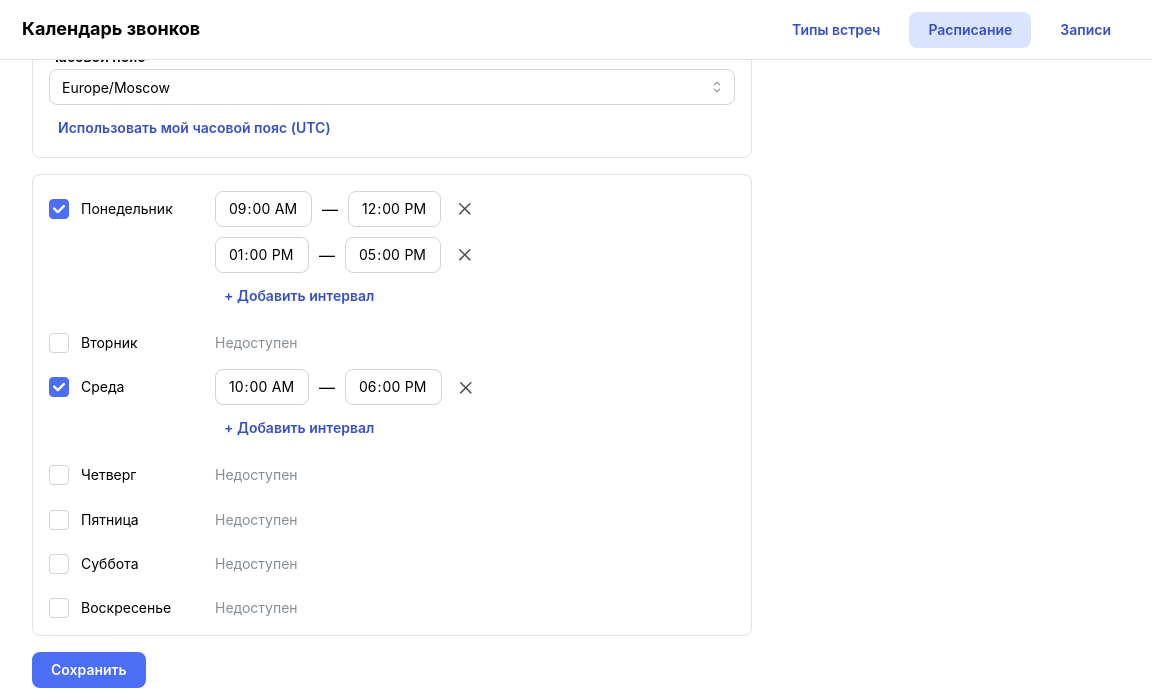
it: SchedulePage › saves changed schedule
(page scrolled)
Click the checkbox labelled "Суббота". click: (59, 564)
box: [49,554,69,574]
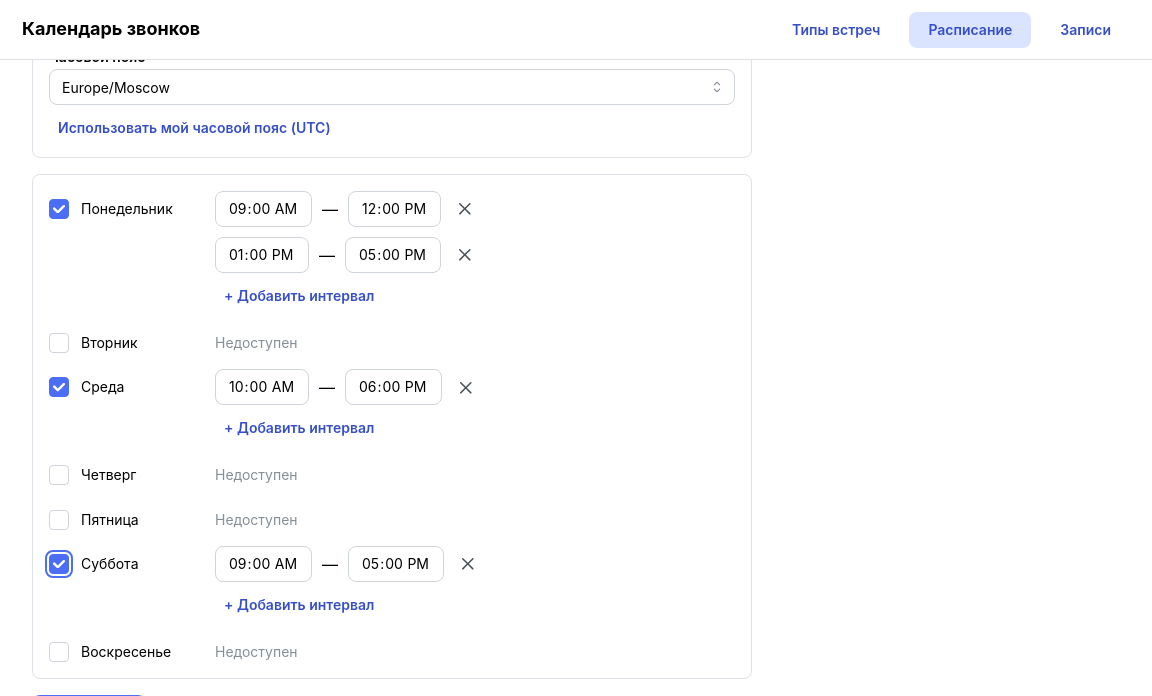
Click the button named "Понедельник: удалить интервал 2". click: (465, 255)
box: [451,241,479,269]
(page scrolled)
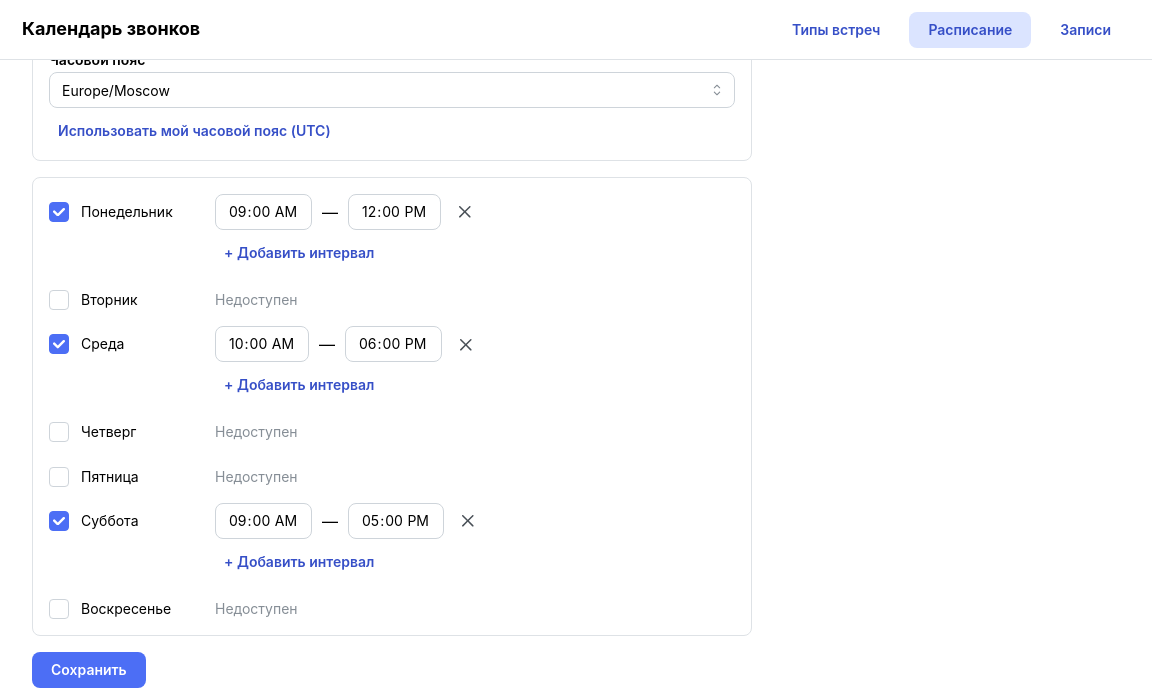
Replace the text in the time field named "Среда: конец интервала 1" with "16:30". click: (394, 344)
box: [345,326,442,362]
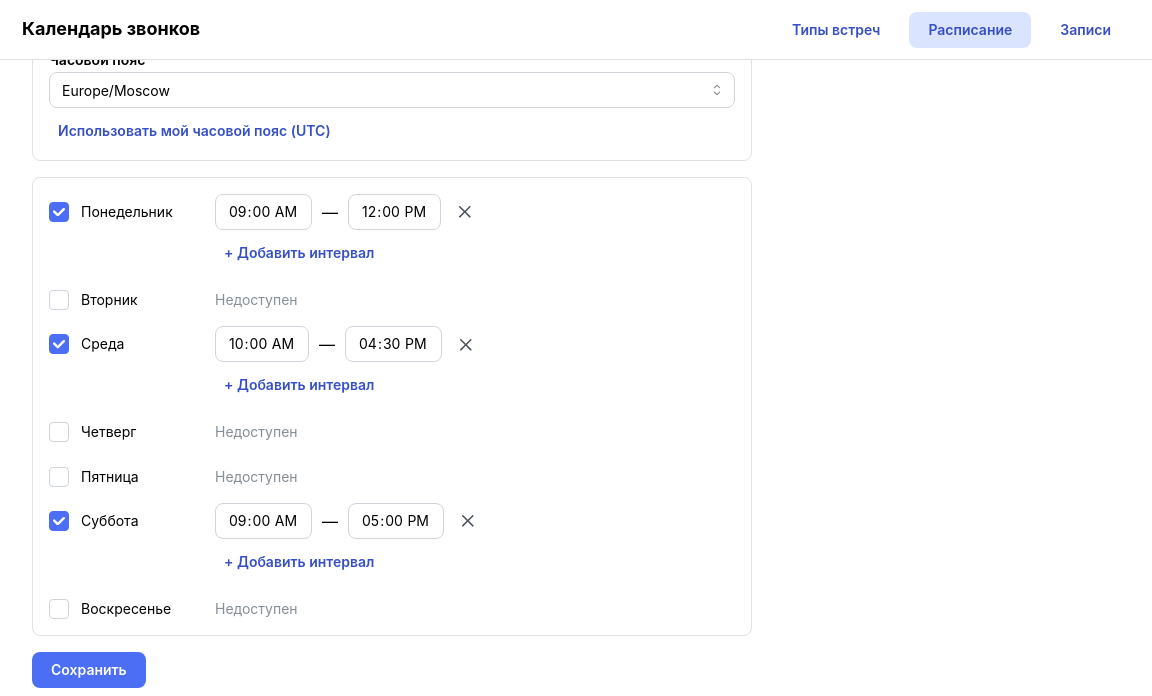
Click the button "Сохранить". click: (89, 670)
box: [32,652,146,688]
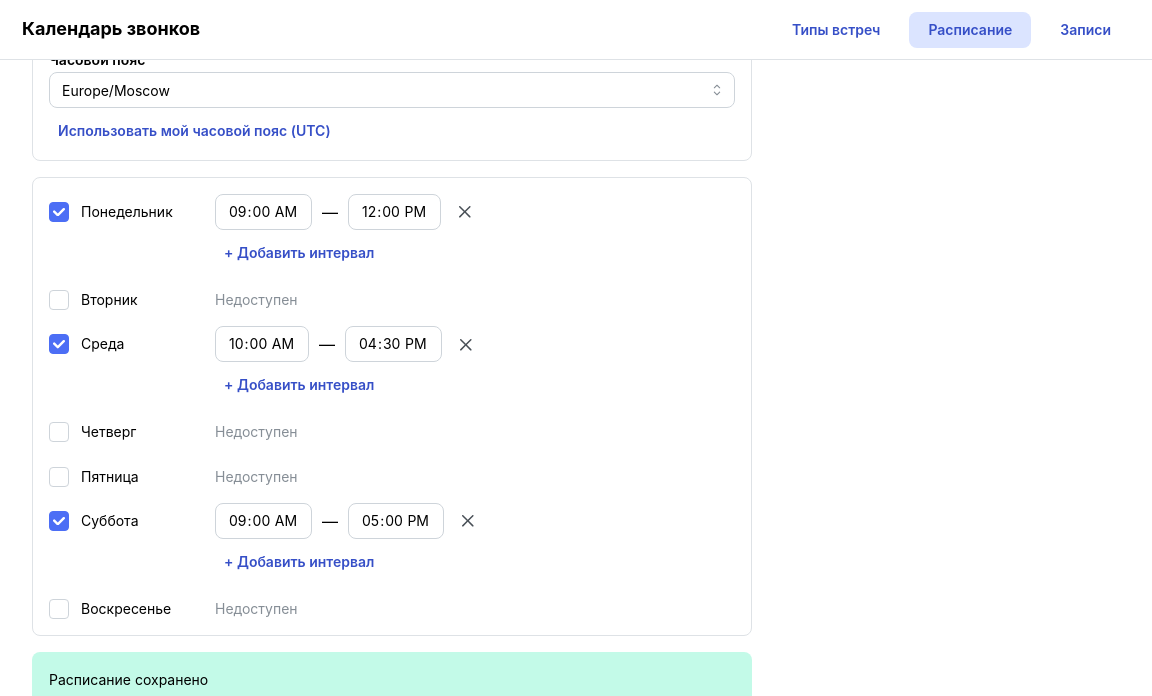
Now the text "Расписание сохранено" is shown, box [49,671,208,688]
